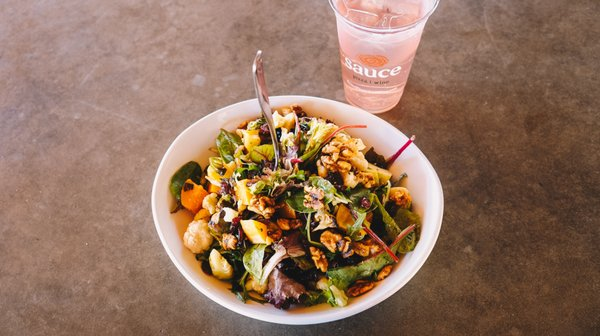sushi: (150, 93, 445, 328)
